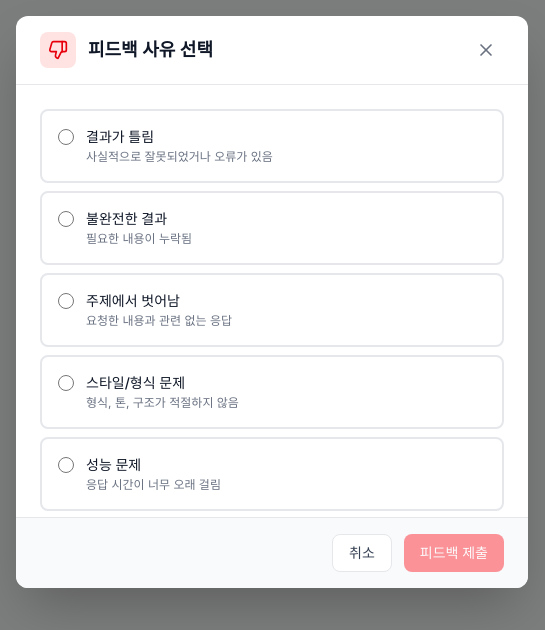
Test: FeedbackModal › enables submit button when a reason is selected
Click the text "결과가 틀림": (120, 136) [86, 128, 154, 145]
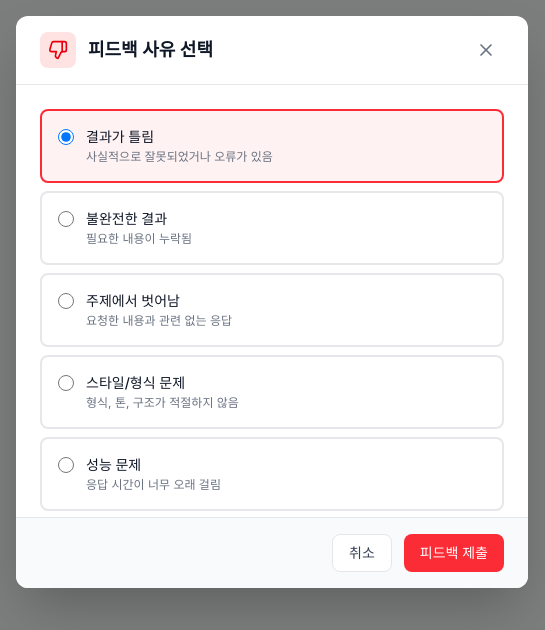
Result: the button "피드백 제출" is enabled at [404, 534, 504, 572]
